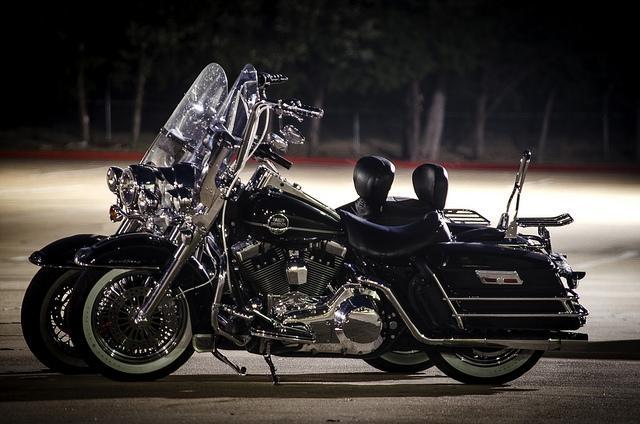motorcycle: (65, 60, 592, 392), (23, 64, 411, 376)
